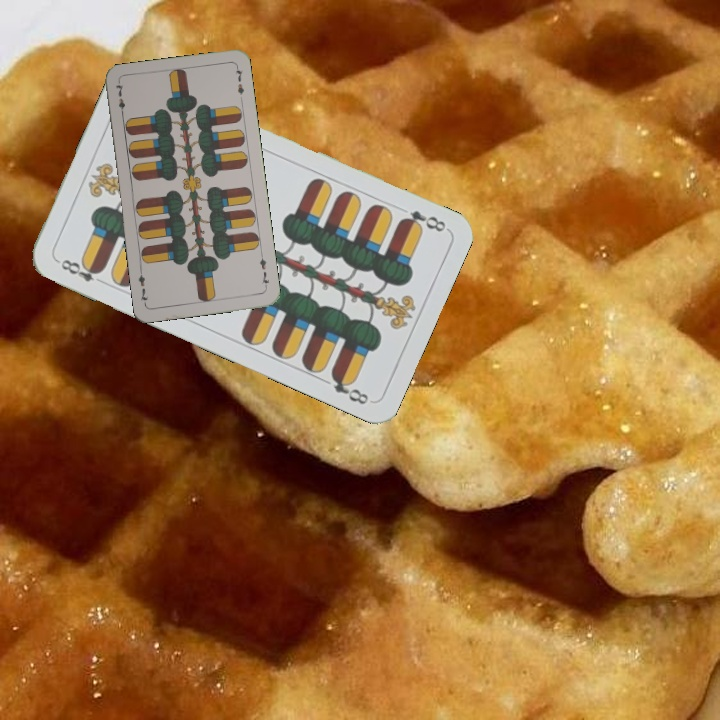E7: (255, 250, 272, 291), (112, 79, 128, 119)
E8: (54, 255, 109, 287), (395, 206, 449, 235)
